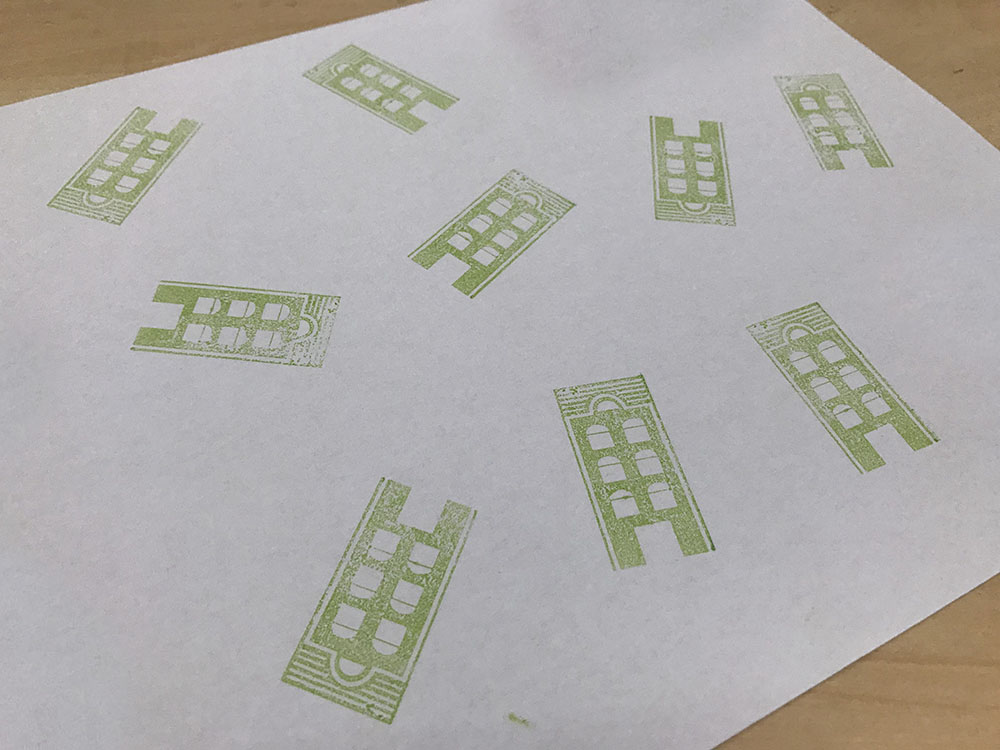build: (274, 465, 494, 737), (730, 288, 962, 502), (533, 352, 737, 590), (95, 266, 384, 387), (401, 160, 587, 312), (33, 97, 218, 235), (289, 37, 471, 151), (762, 61, 901, 180), (627, 109, 754, 238)
